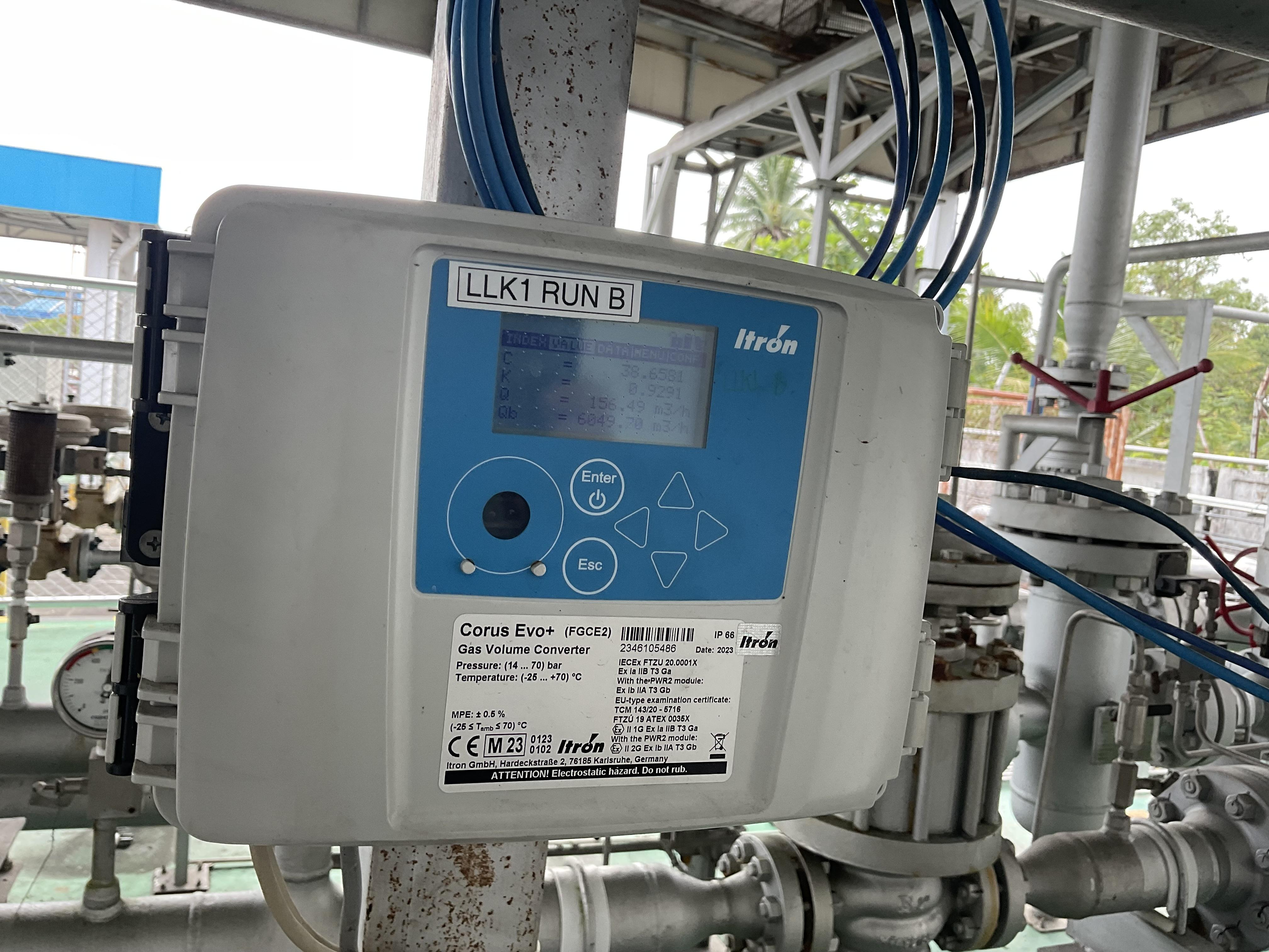digital_screen: (492, 305, 719, 450)
